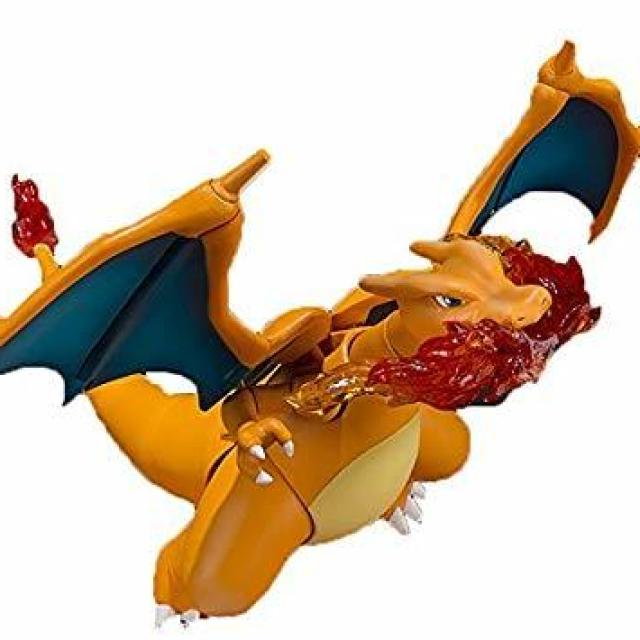Charizard: (166, 194, 574, 612)
